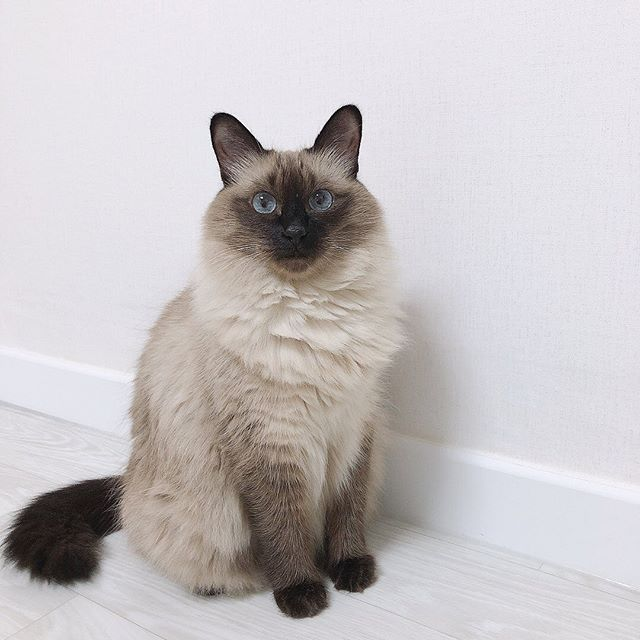cat: (203, 103, 372, 280)
